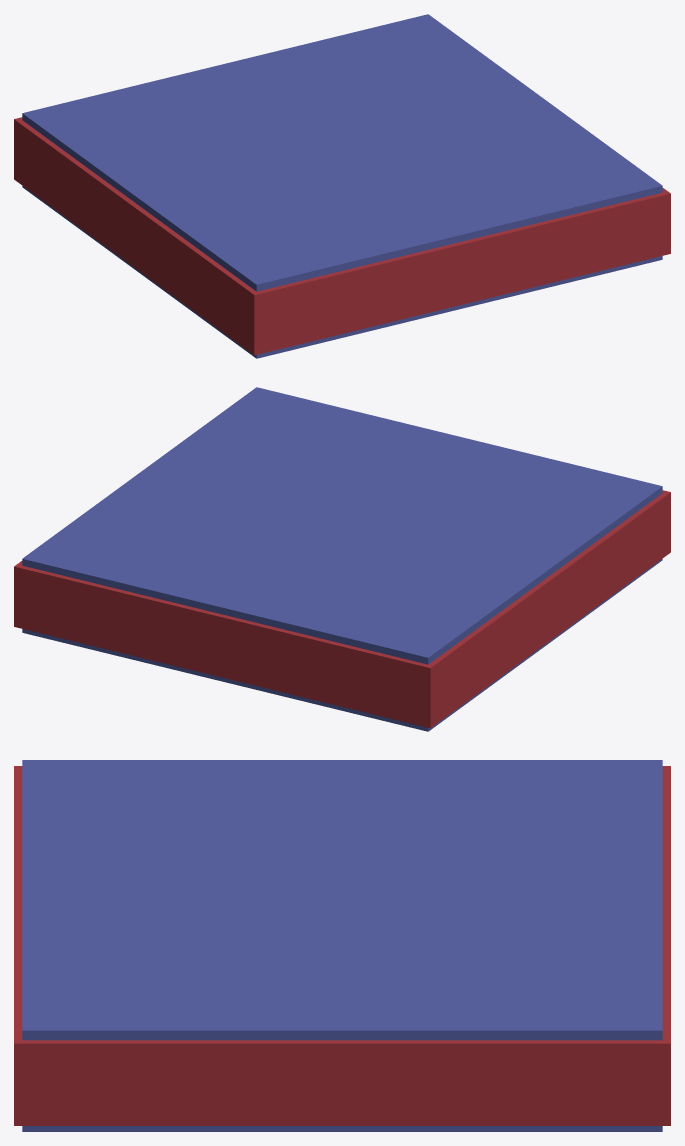
File: SM_TilingFloor3.fbx
3 renders of one model, top to bottom at view 1: azimuth 30°, elevation 25°; view 2: azimuth 150°, elevation 25°; view 3: azimuth 270°, elevation 25°, orthographic. The views are drawn at different scales.
Visible parts, largest first — view 1: SM_TilingFloor3; view 2: SM_TilingFloor3; view 3: SM_TilingFloor3.
Boxes of the visible parts, x1,y1,x2,y2 form: SM_TilingFloor3: [14, 14, 670, 358]; SM_TilingFloor3: [14, 387, 670, 731]; SM_TilingFloor3: [14, 760, 670, 1131].
Size of the model in its own units: 400 by 67.89 by 400.
